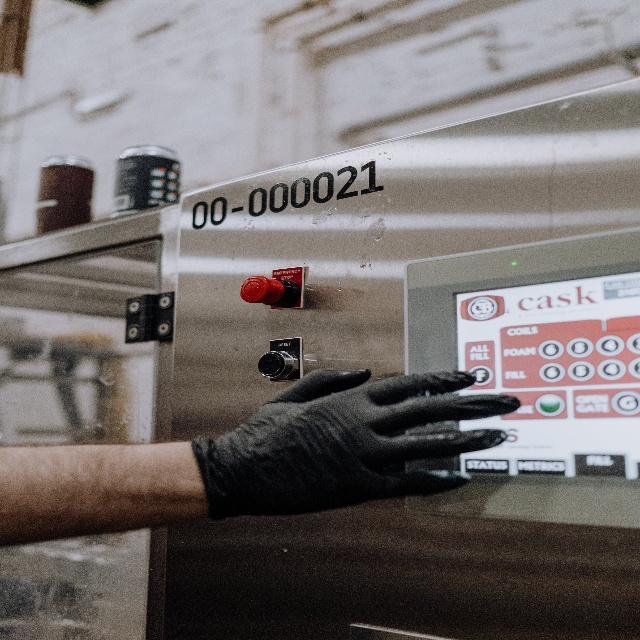Guantes: (190, 366, 522, 513)
